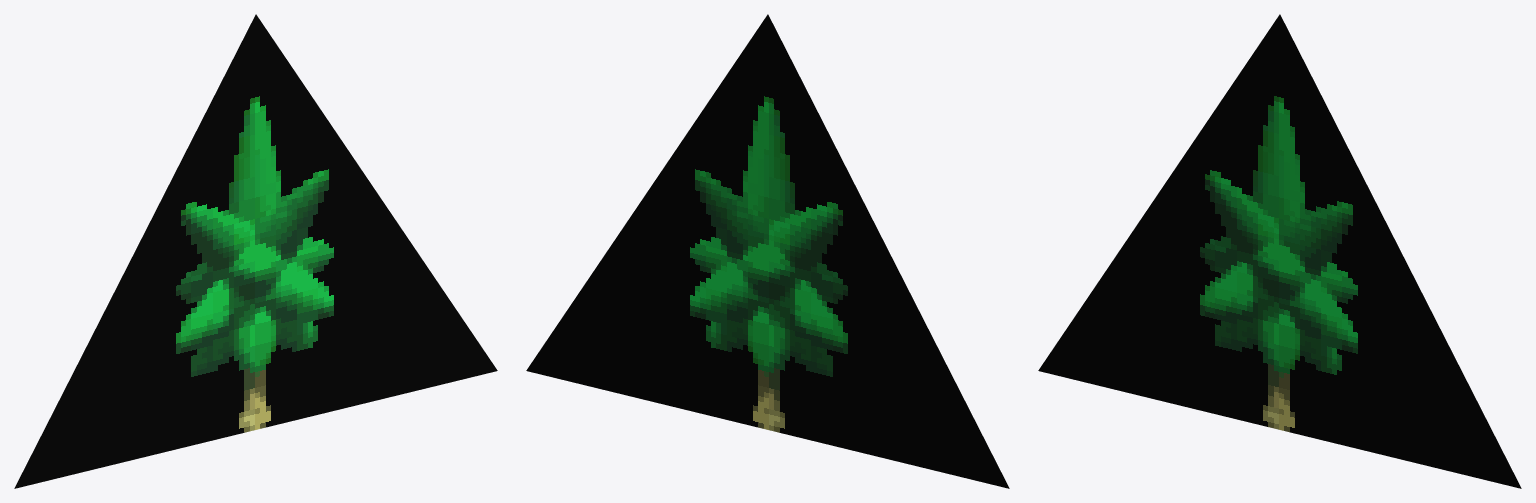
The model's file is toge_tree.glb.
The picture shows the model from 3 angles, left to right: view 1: azimuth 30°, elevation 25°; view 2: azimuth 150°, elevation 25°; view 3: azimuth 330°, elevation 25°; orthographic projection.
Visible parts, largest first — view 1: toge_tree; view 2: toge_tree; view 3: toge_tree.
Part boxes in pixels (bbox=[...]): toge_tree: bbox=[14, 14, 497, 488]; toge_tree: bbox=[526, 14, 1009, 488]; toge_tree: bbox=[1038, 14, 1521, 488].
Bounding box in the file's own units: 122 × 100 × 0.
1 material, 1 textured.
